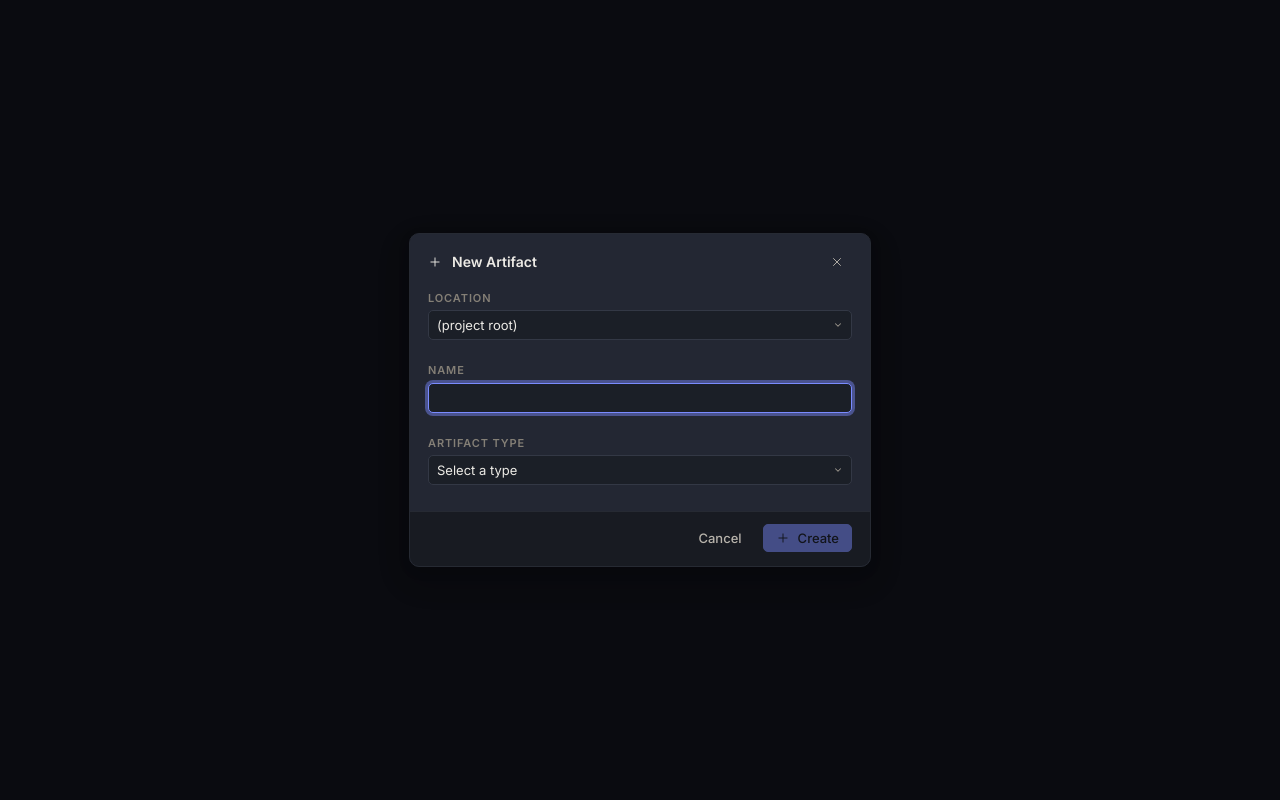
Test: New Artifact modal (NTA-new-typed-artifact.md) › NTA-FR-16: reports a rejection inline and re-enables Create
Type "overview.md" into the field named "Name (required)" at (640, 398), box 428,383 -> 852,413
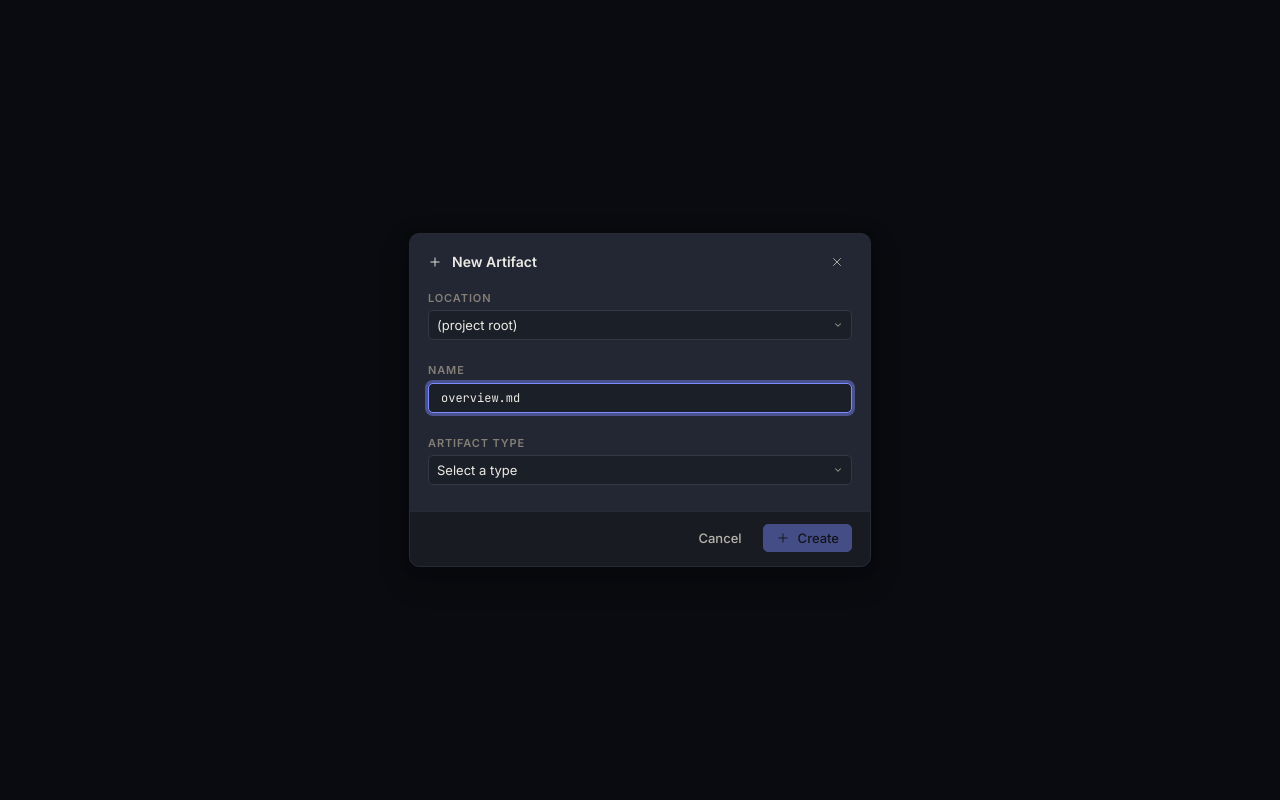
Select "Spec" in the dropdown named "Artifact Type (required)" at (640, 470), box 428,455 -> 852,485
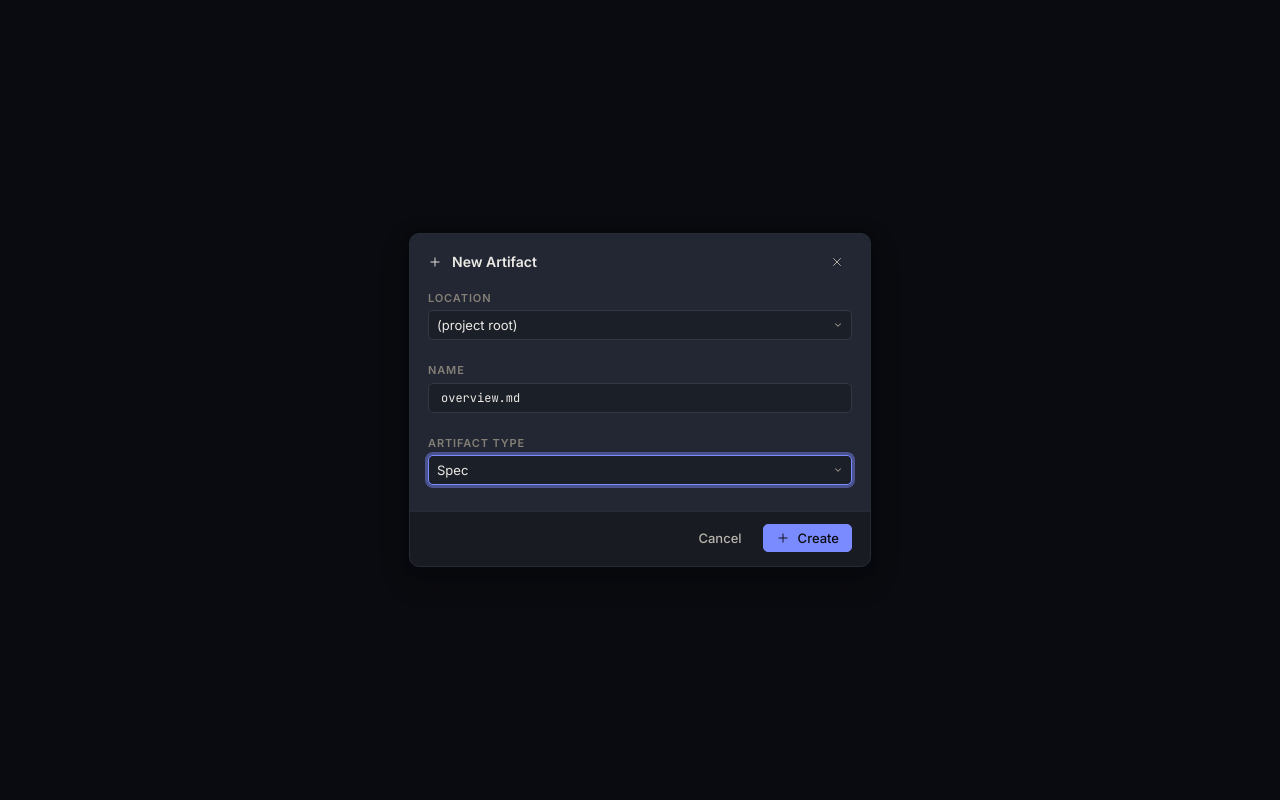
Click the button "Create" at (807, 538), box 763,524 -> 852,552
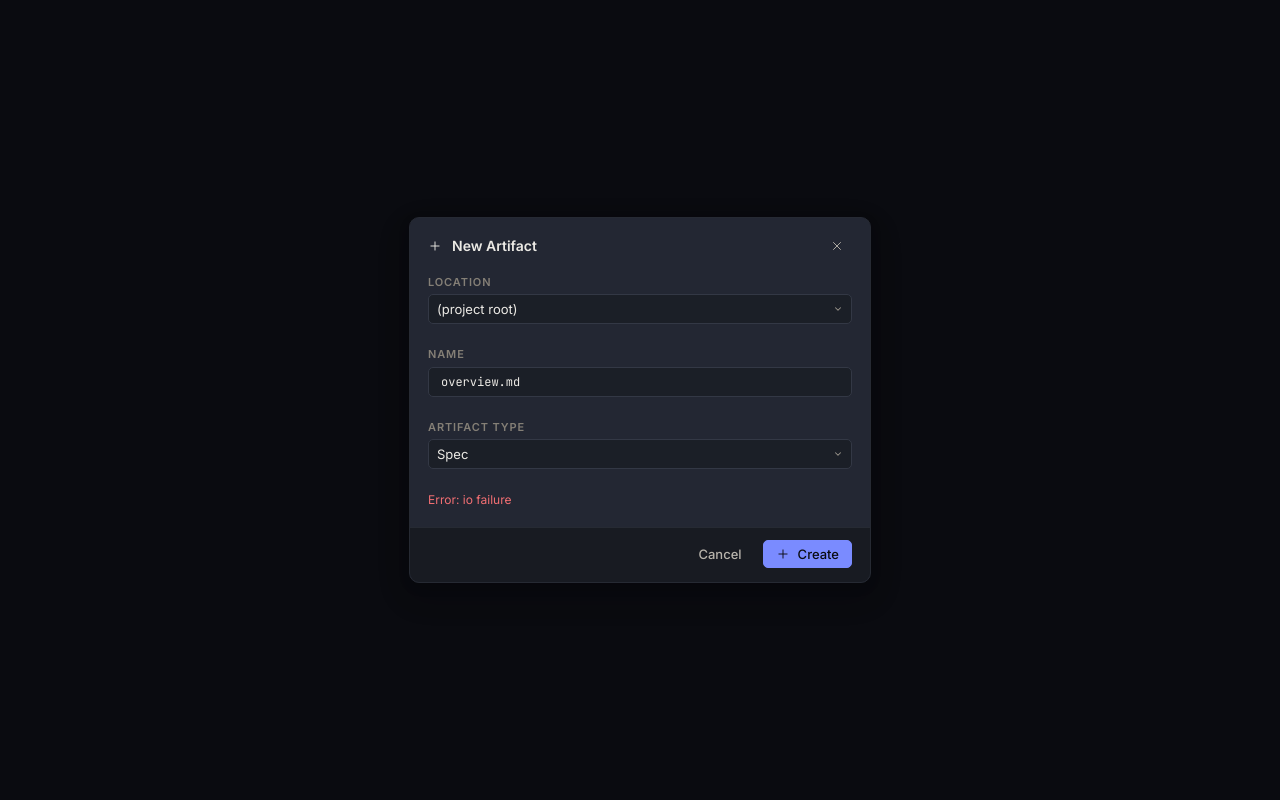
Check: the button "Create" is enabled, box 763,540 -> 852,568
Check: the message shows "io failure", box 428,492 -> 512,507
